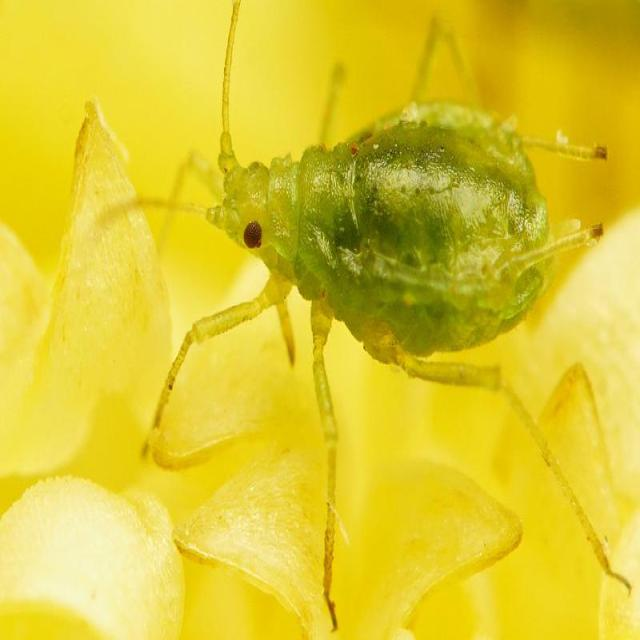Aphids: (166, 71, 608, 484)
